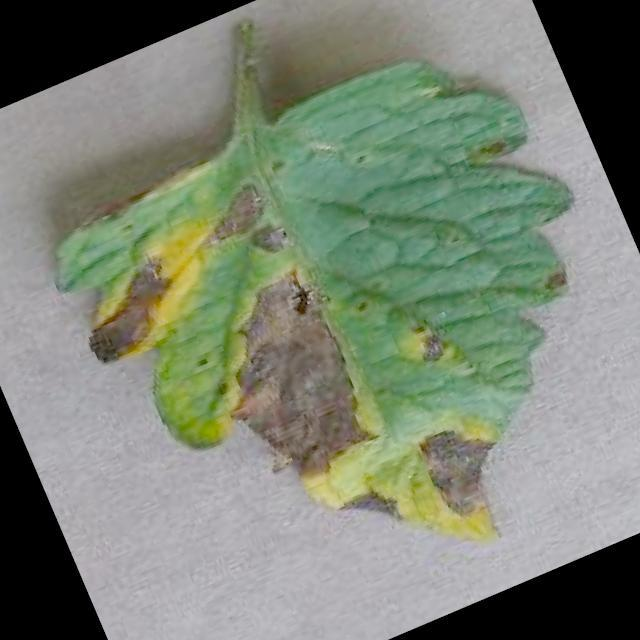Tomato Early blight leaf: (21, 12, 640, 640)
